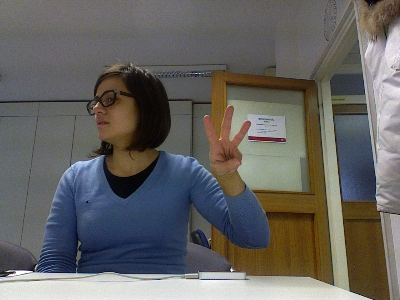三分: (201, 104, 252, 179)
